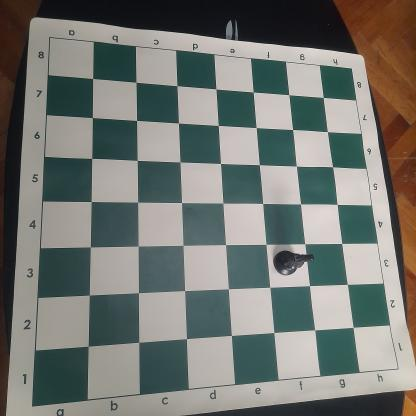black-knight: (272, 249, 315, 276)
